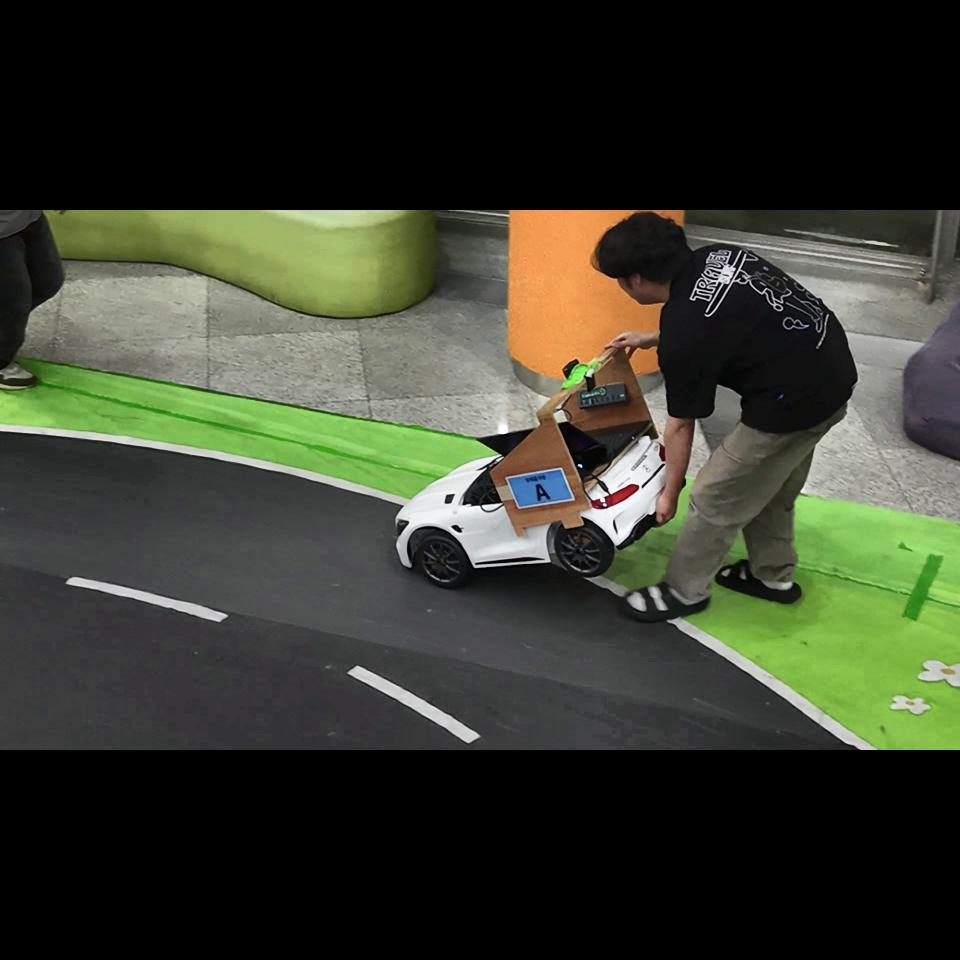broken_line: (346, 665, 482, 744), (65, 577, 229, 623)
